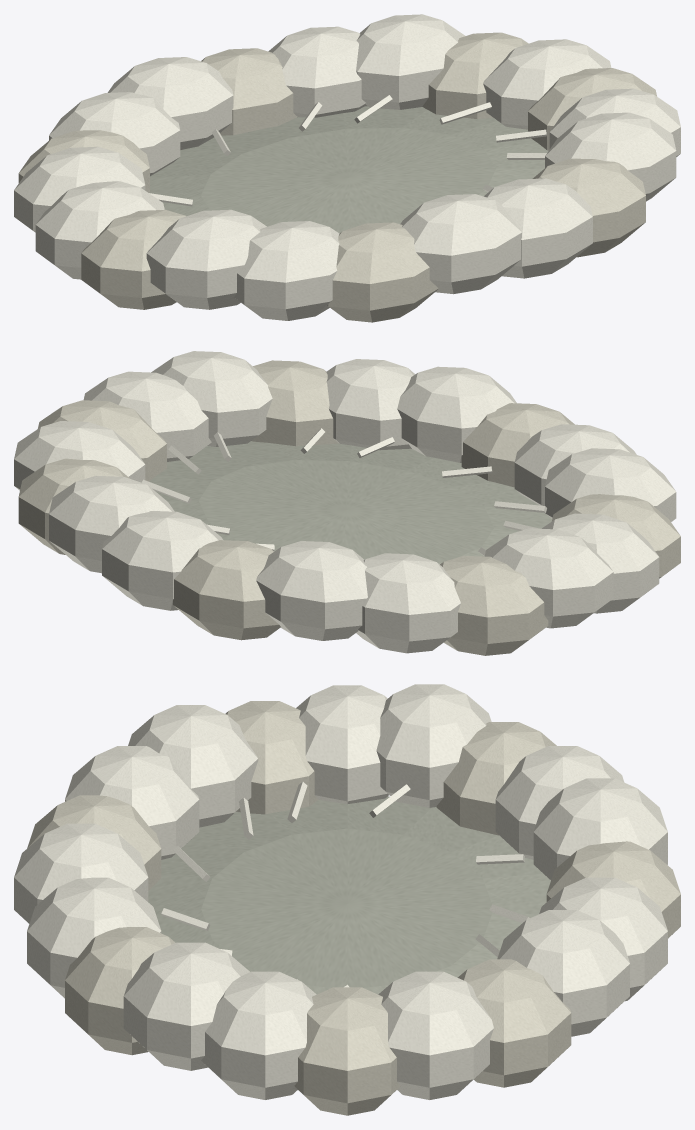
The model's file is nest_lining.obj.
3 views of the same model, one above another, from view 1: azimuth 30°, elevation 25°; view 2: azimuth 150°, elevation 25°; view 3: azimuth 270°, elevation 25° (orthographic). The views are drawn at different scales.
Parts seen in each view (by area): view 1: nest_lining; view 2: nest_lining; view 3: nest_lining.
Boxes of the visible parts, x1,y1,x2,y2 form: nest_lining: [14, 14, 680, 322]; nest_lining: [14, 351, 680, 655]; nest_lining: [14, 684, 680, 1115].
Size of the model in its own units: 7.44 by 1.16 by 5.76.
1 material, 1 textured.
